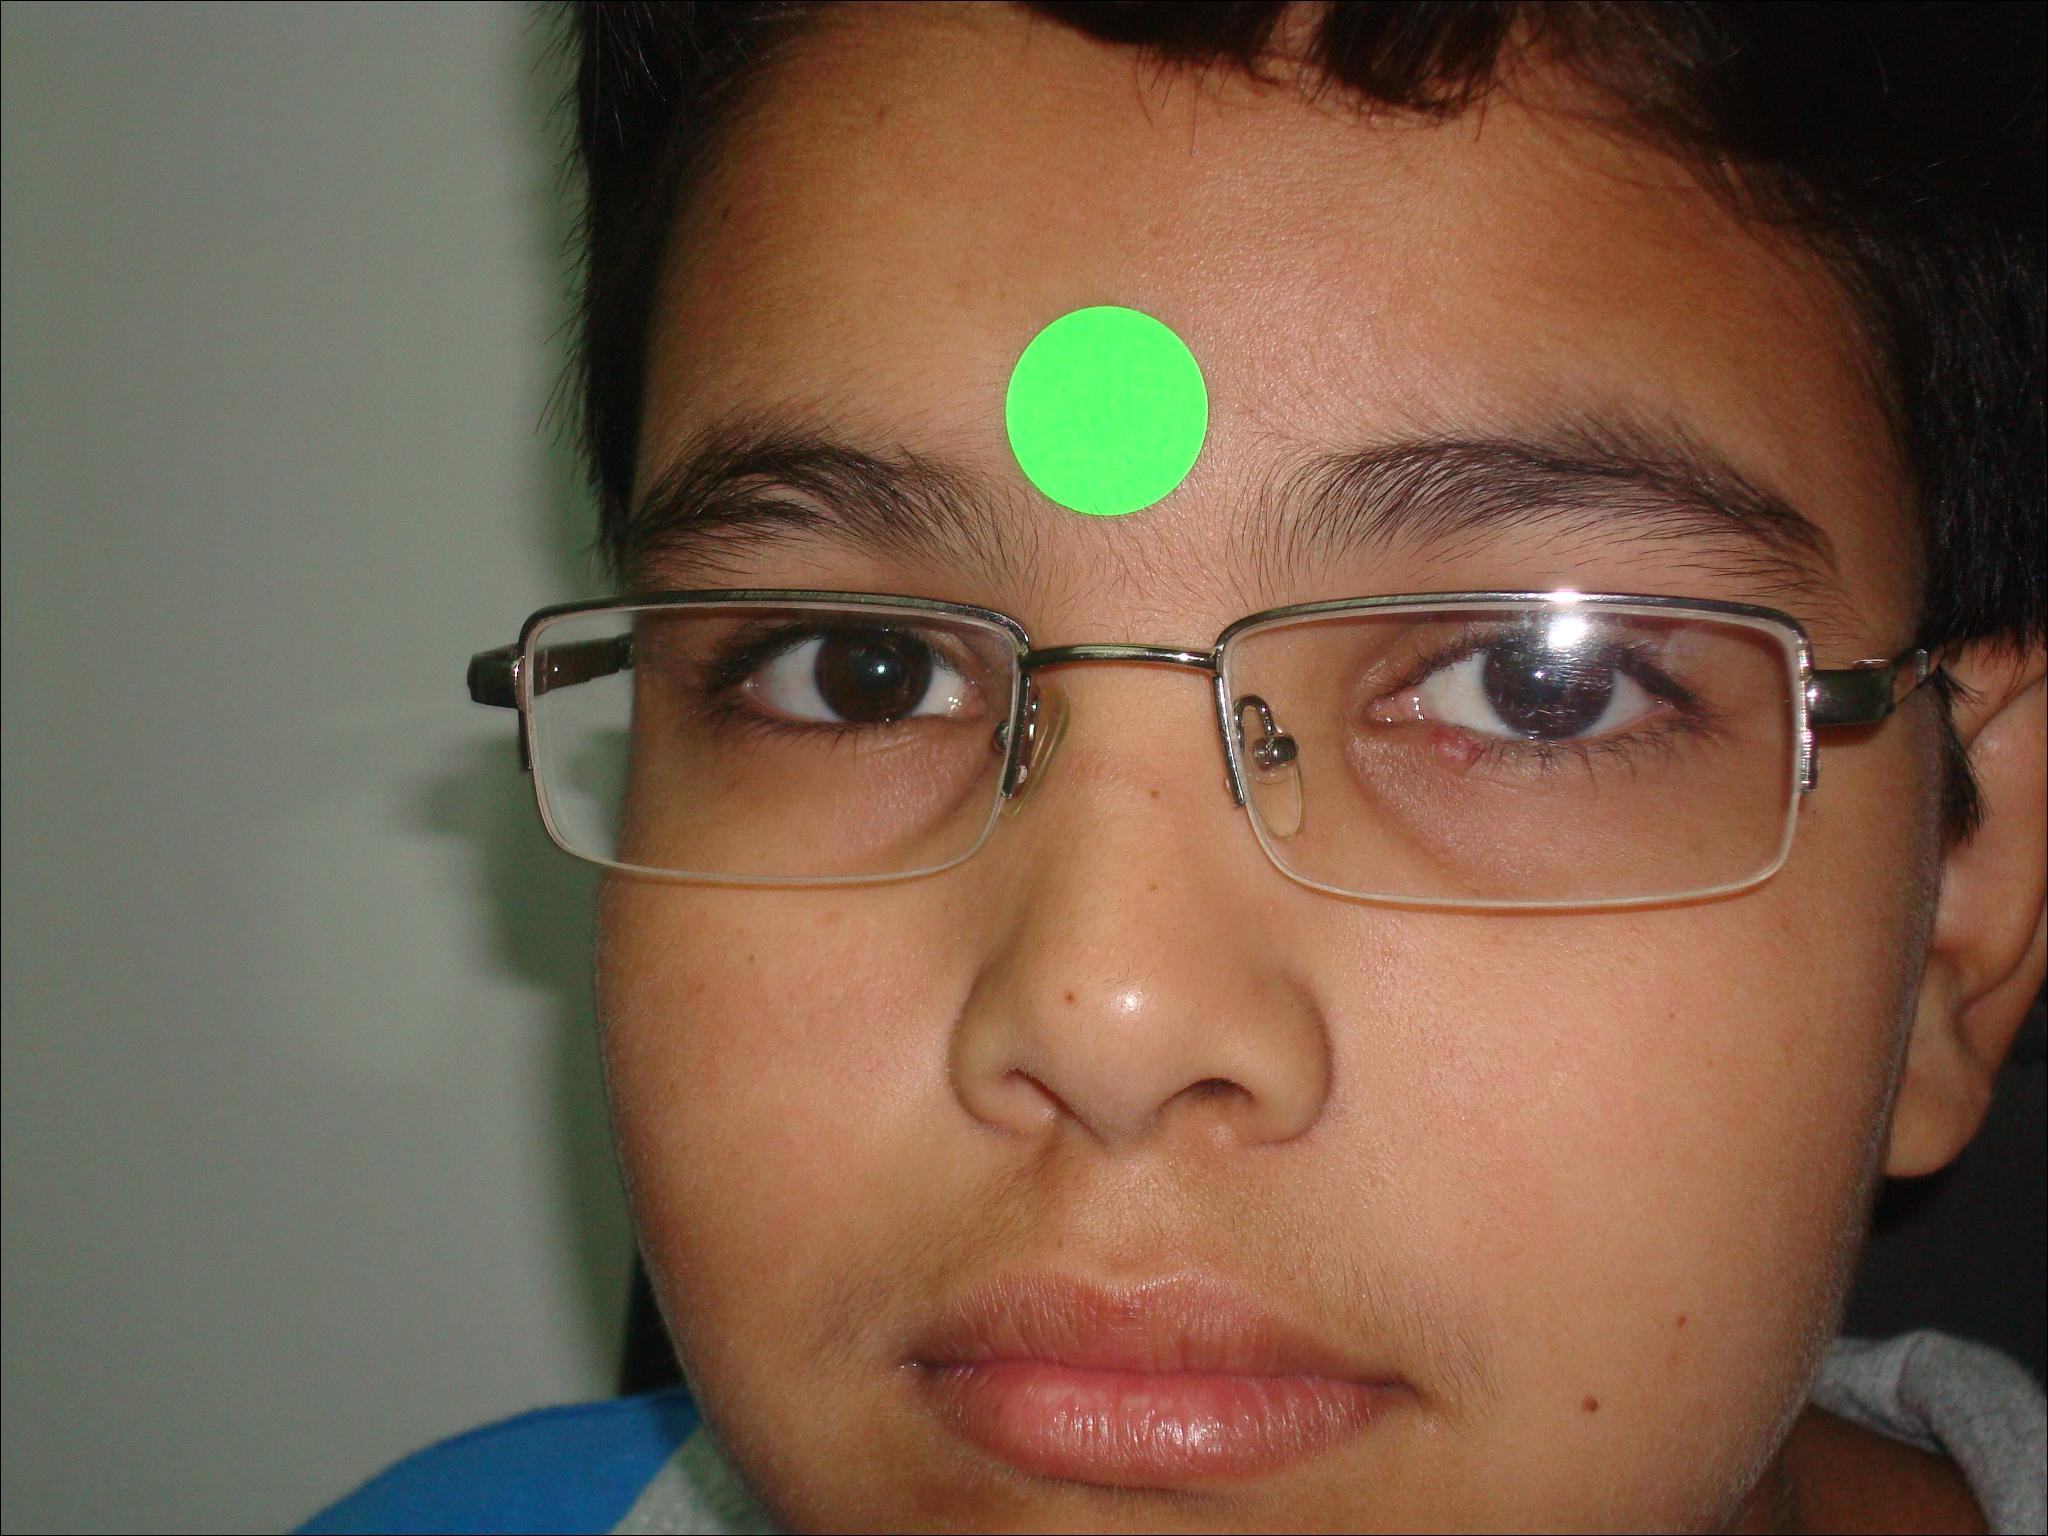flash: (871, 658, 890, 679), (1529, 663, 1548, 684)
limbo: (813, 608, 937, 734), (1471, 623, 1605, 739)
